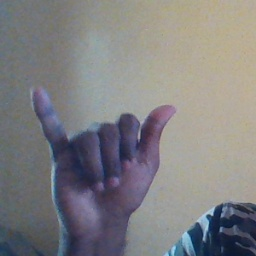J: (26, 84, 181, 220)
